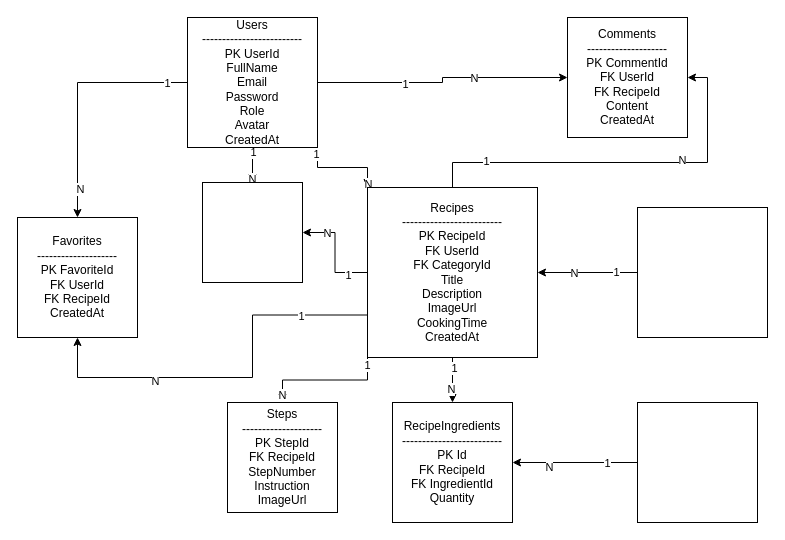
Image size: 785x540. Some labels were removed from this diagram. Each missing label, with the centre of its shape:
"Categories ------------------------- PK CategoryId Name Description ImageUrl" goes at (x=702, y=272).
"Ingredients ------------------------- PK IngredientId Name Unit Description" goes at (x=697, y=462).
"Ratings ---------------- PK RatingId FK UserId FK RecipeId Score CreatedAt" goes at (x=252, y=232).
